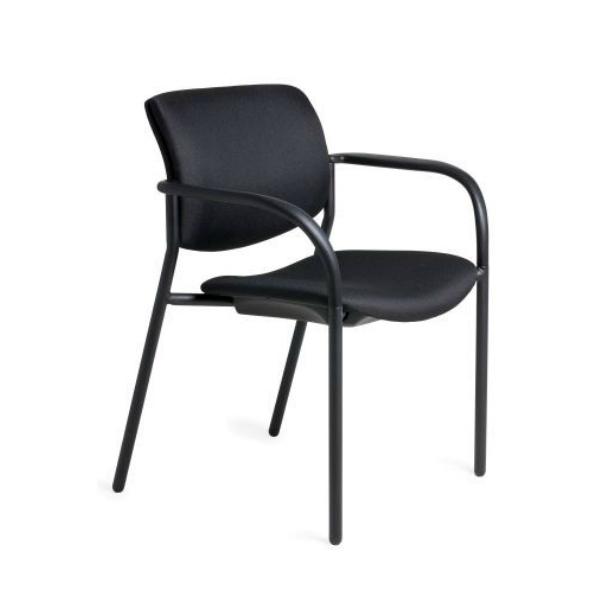chairs: (112, 85, 498, 546)
